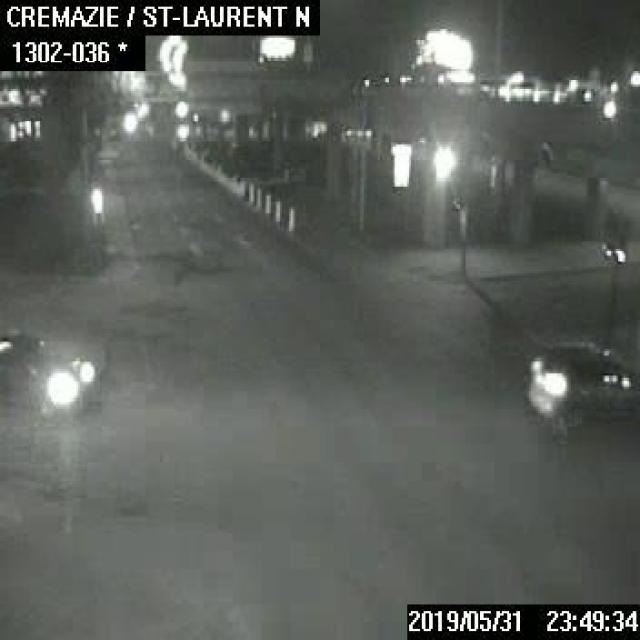construction: (285, 206, 293, 226), (256, 186, 262, 208), (264, 190, 270, 212), (248, 181, 254, 202), (274, 197, 280, 218)
vehicle: (522, 340, 638, 422), (0, 331, 98, 418)
